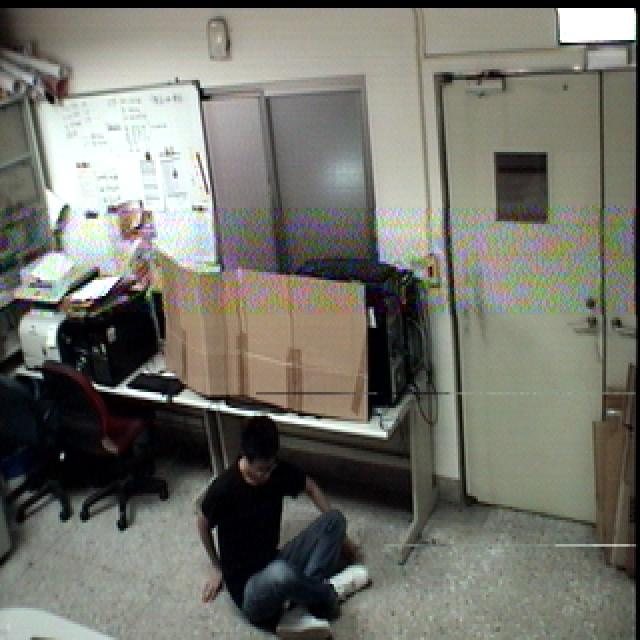sit: (193, 411, 374, 640)
